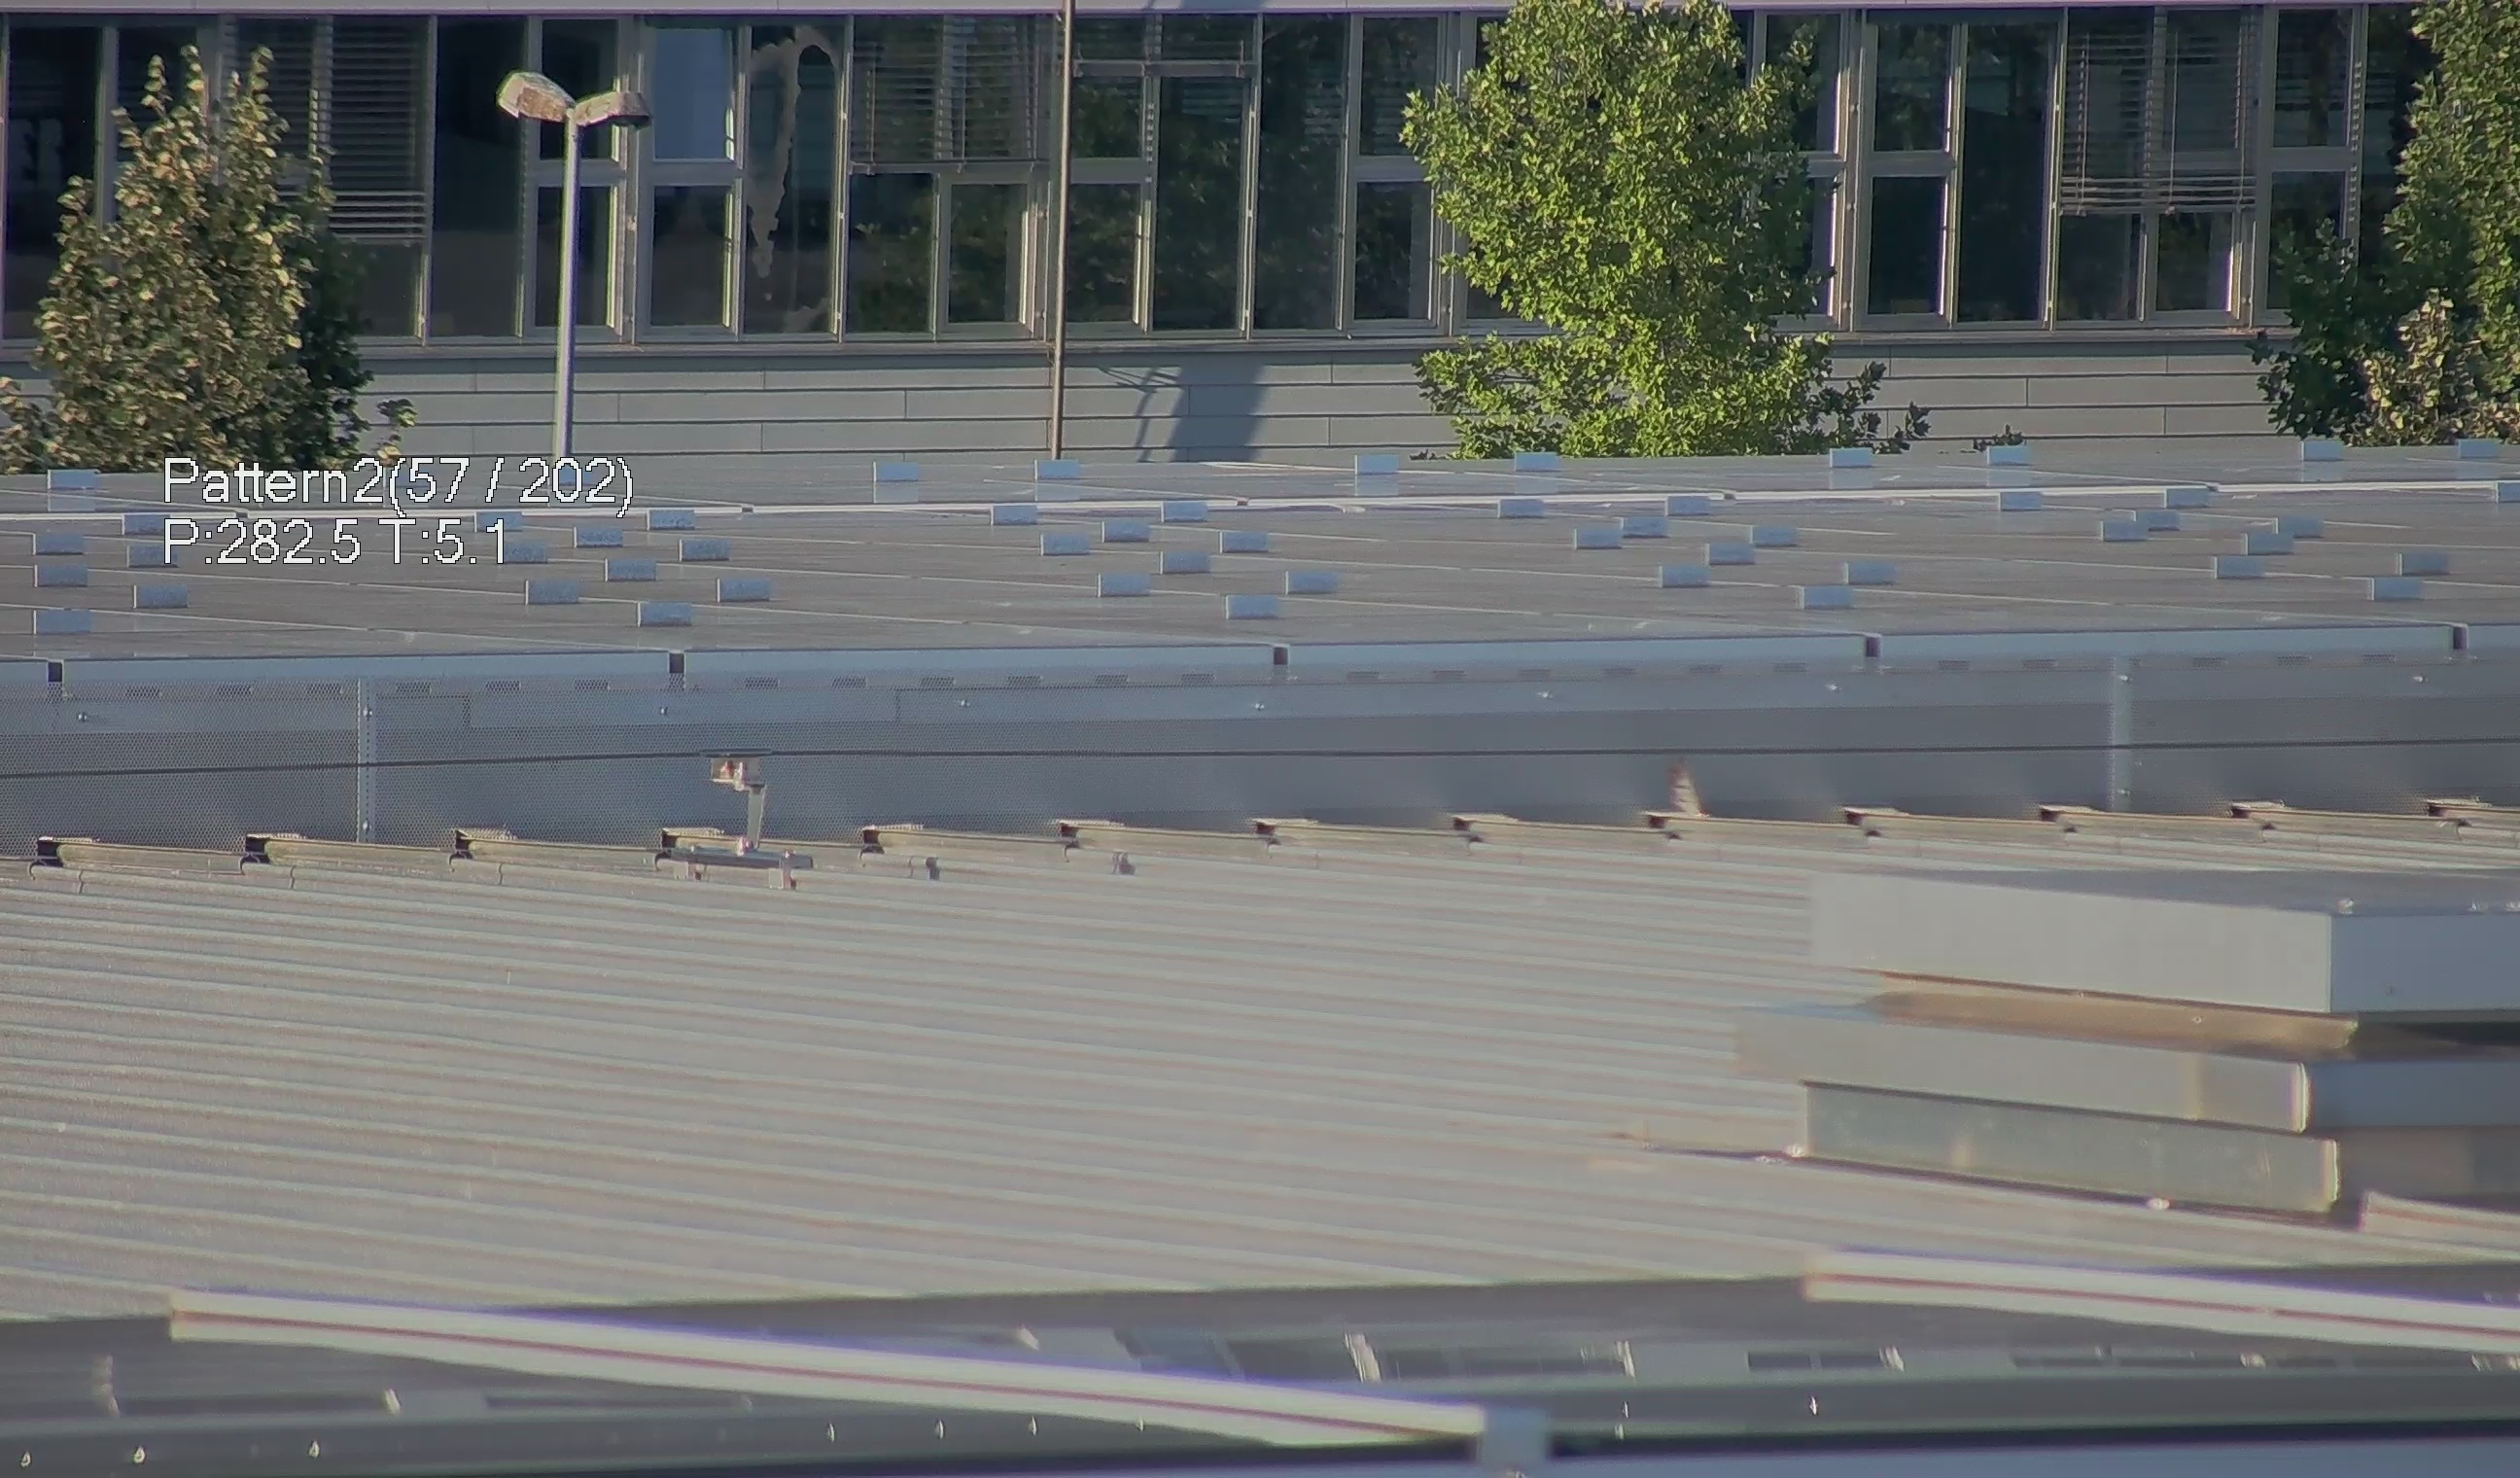Other: (1646, 750, 1720, 846)
